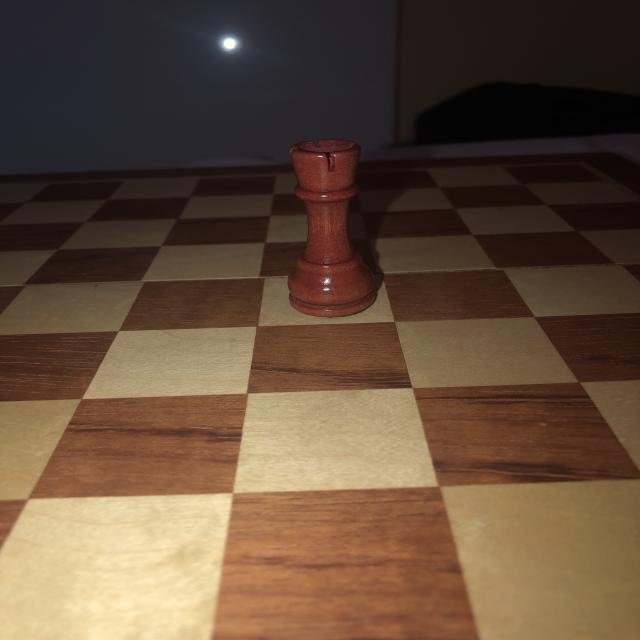black_rook: (288, 139, 377, 316)
